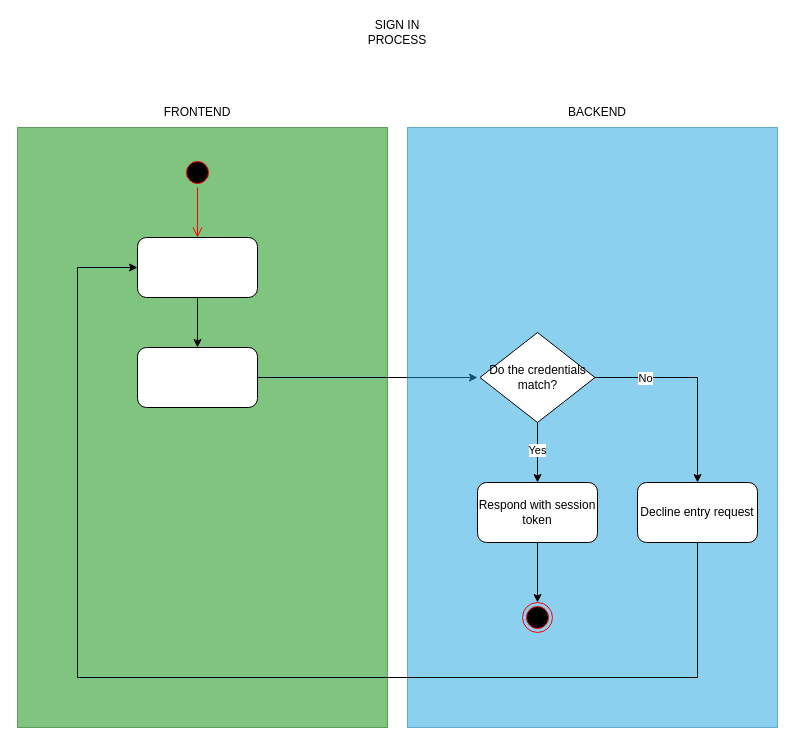
Image size: 795x745. Some labels were removed from this diagram. The shapes that lost their labels are listed below. From the top down, each one's centre as x and y in pixels, then its label:
At point (197, 267): "User enters credentials".
At point (197, 377): "Package credentials for transmission".
